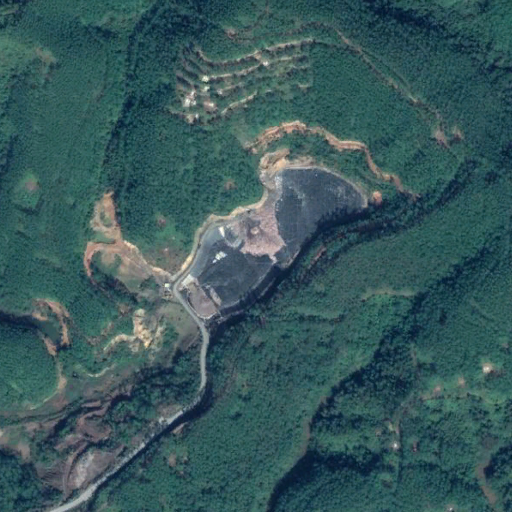lf: (184, 169, 366, 320)
